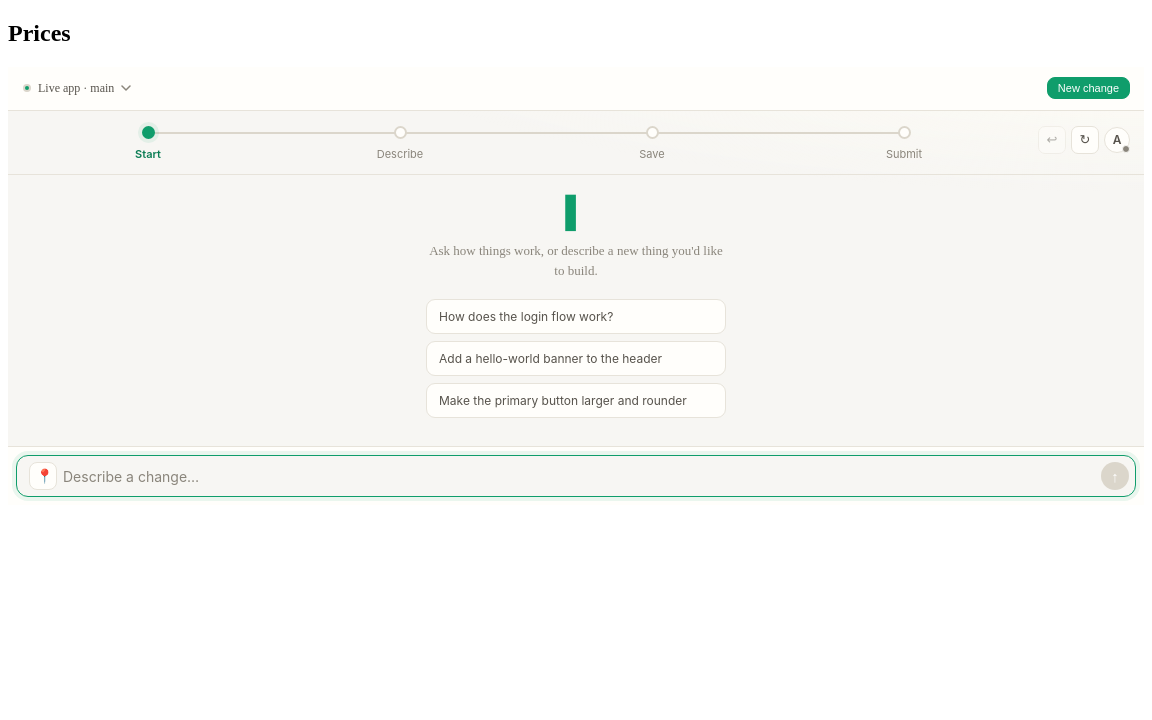
Panel › shows a visible note each time the agent reads the page
This screenshot has width=1152, height=720.
Expected: the button named "alice" is shown, 1104,127 -> 1130,153
Step 1. Type "look" into the text box with placeholder "Describe a change…" → (579, 477), box 63,464 -> 1095,490
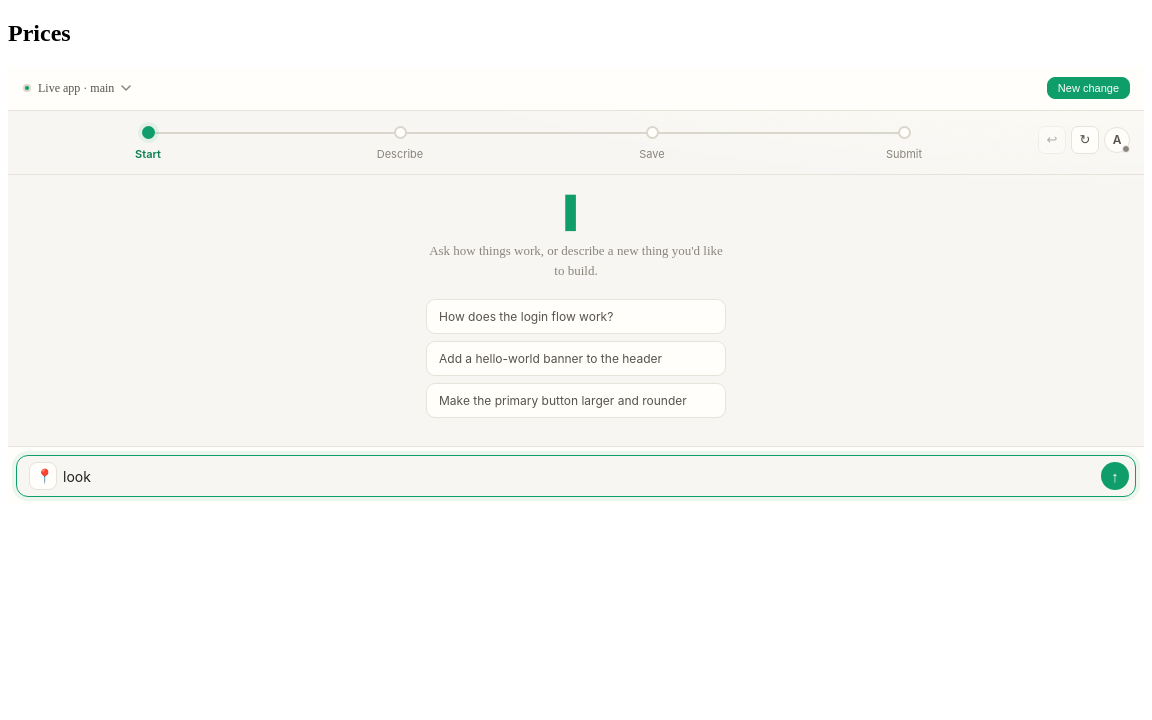
Step 2. Click the button named "send" → click(1115, 476), box 1101,462 -> 1129,490
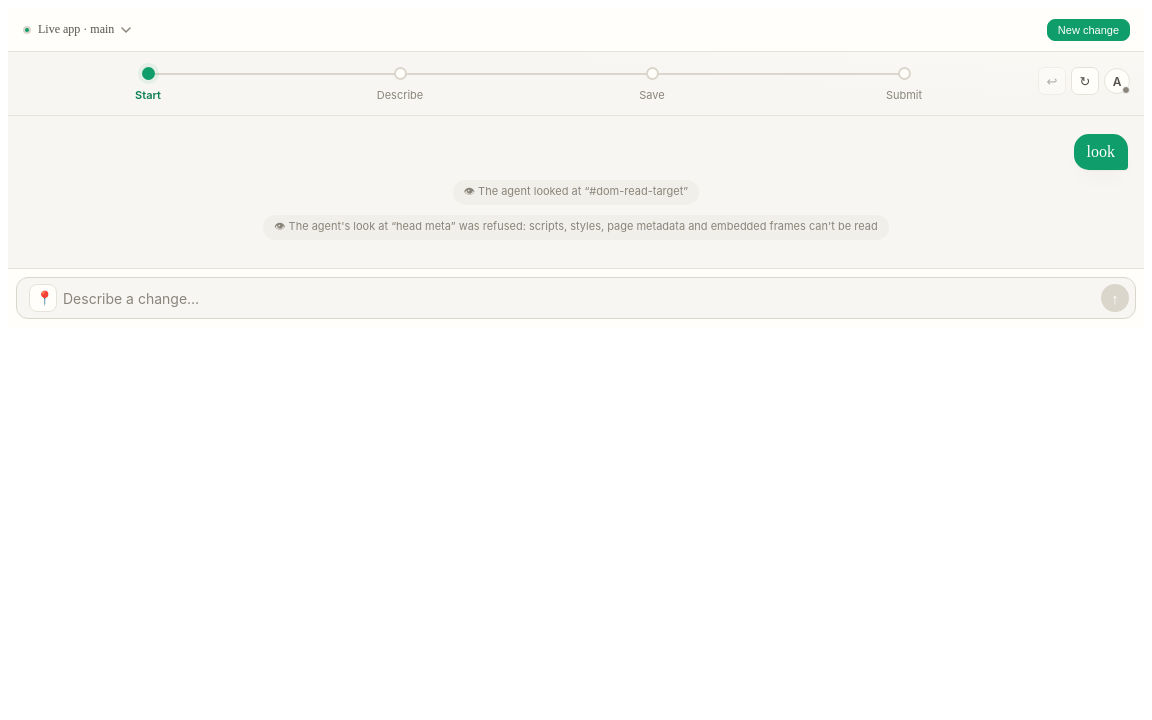
Result: the text "👁 The agent looked at “#dom-read-target”" is shown at 453,180 -> 699,205
Result: the text "the agent's look at .head meta. was refused" is shown at 274,219 -> 878,233
